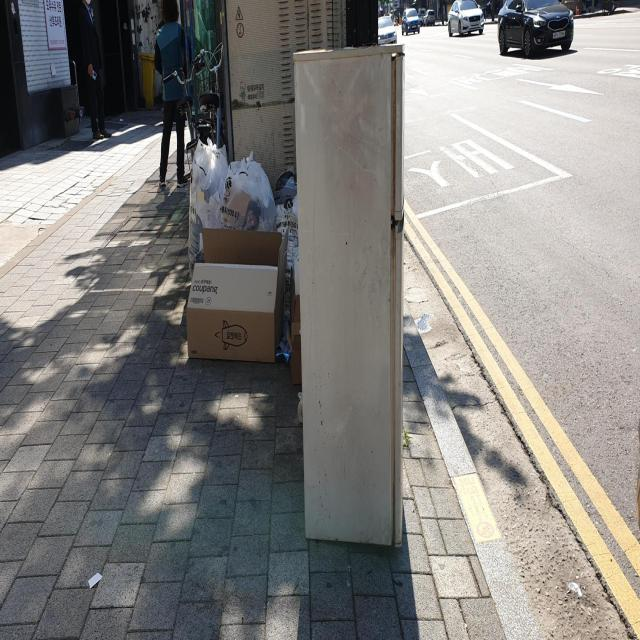refrigerator: (290, 36, 408, 555)
